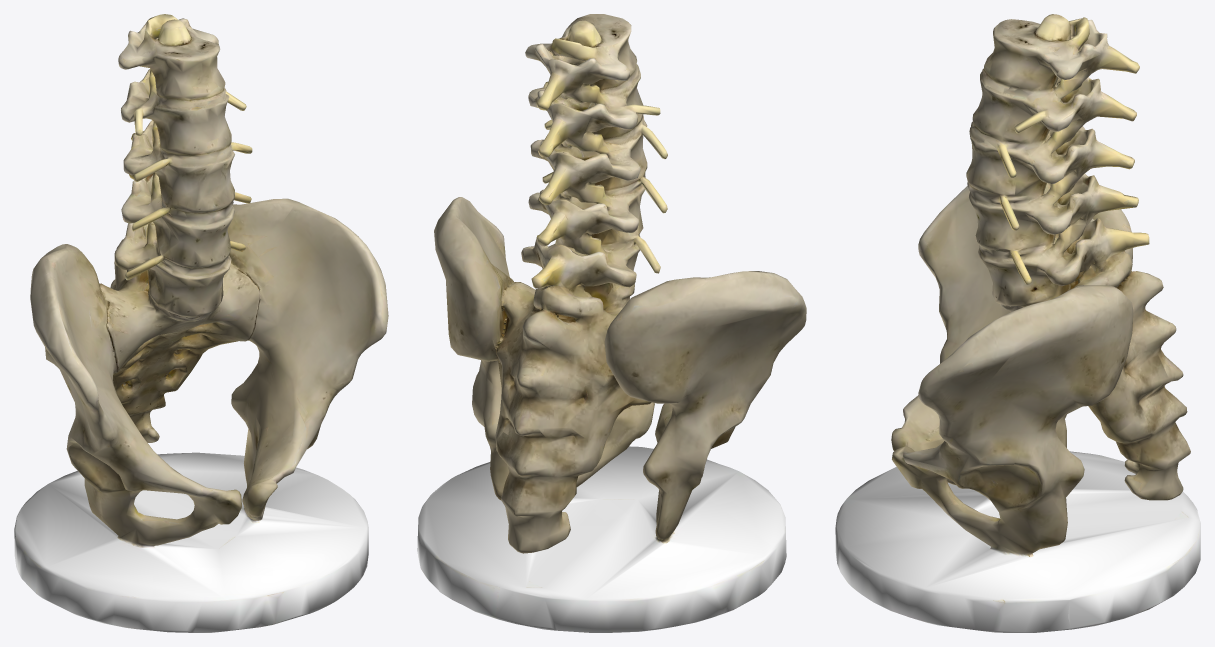
Rendered from spine.glb.
The picture shows the model from 3 angles, left to right: view 1: azimuth 30°, elevation 25°; view 2: azimuth 150°, elevation 25°; view 3: azimuth 270°, elevation 25°; orthographic projection. The views are drawn at different scales.
Visible parts, largest first — view 1: Mesh_0; view 2: Mesh_0; view 3: Mesh_0.
Part boxes in pixels (<box>): Mesh_0: <box>14,14,388,632</box>; Mesh_0: <box>417,14,806,632</box>; Mesh_0: <box>835,14,1200,632</box>.
Size of the model in its own units: 1.25 by 1.9 by 1.16.
Materials: 1 (1 with a texture image).
